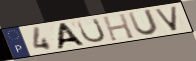4: (31, 25, 53, 53)
A: (55, 21, 88, 50)
H: (100, 12, 136, 42)
U: (126, 8, 160, 37), (75, 17, 107, 44)
V: (152, 5, 179, 33)
